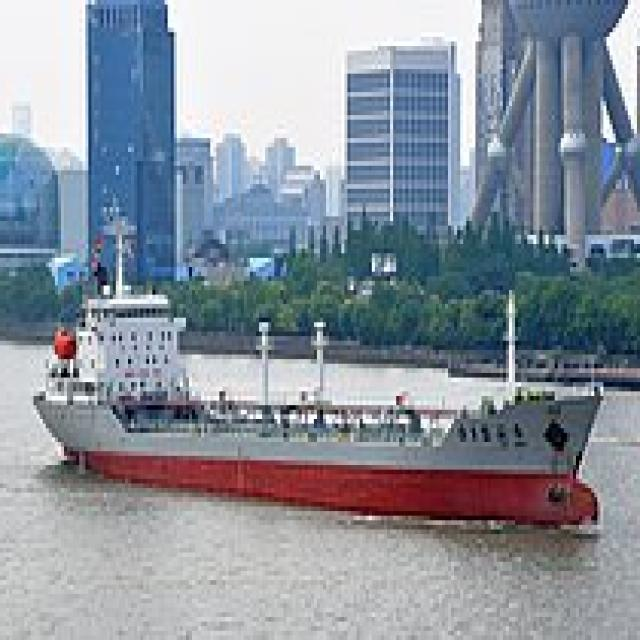Tanker: (28, 202, 610, 538)
